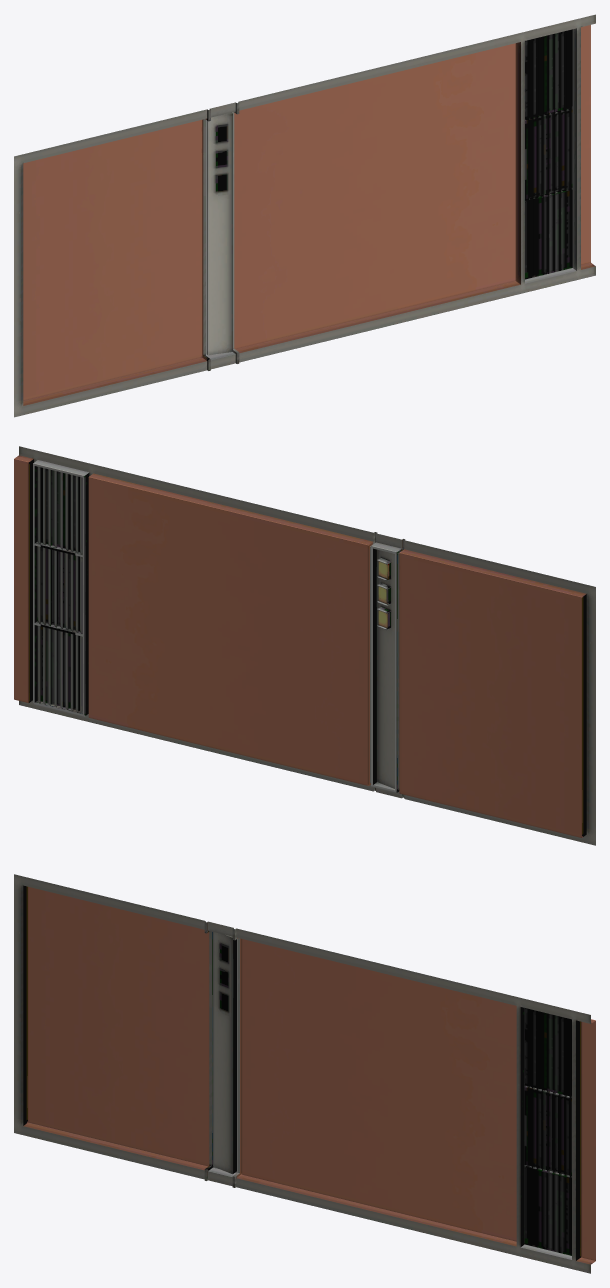
File: props_spytech_computer_wall05.glb
3 renders of one model, top to bottom at view 1: azimuth 30°, elevation 25°; view 2: azimuth 150°, elevation 25°; view 3: azimuth 330°, elevation 25°, orthographic.
Visible parts, largest first — view 1: models/props_spytech/computer_wall05; view 2: models/props_spytech/computer_wall05; view 3: models/props_spytech/computer_wall05.
Boxes of the visible parts, left/top/right/bottom form: models/props_spytech/computer_wall05: left=14, top=14, right=595, bottom=417; models/props_spytech/computer_wall05: left=14, top=446, right=595, bottom=845; models/props_spytech/computer_wall05: left=14, top=874, right=595, bottom=1273.
Bounding box in the file's own units: 112 × 48 × 2.49.
1 material, 1 textured.
